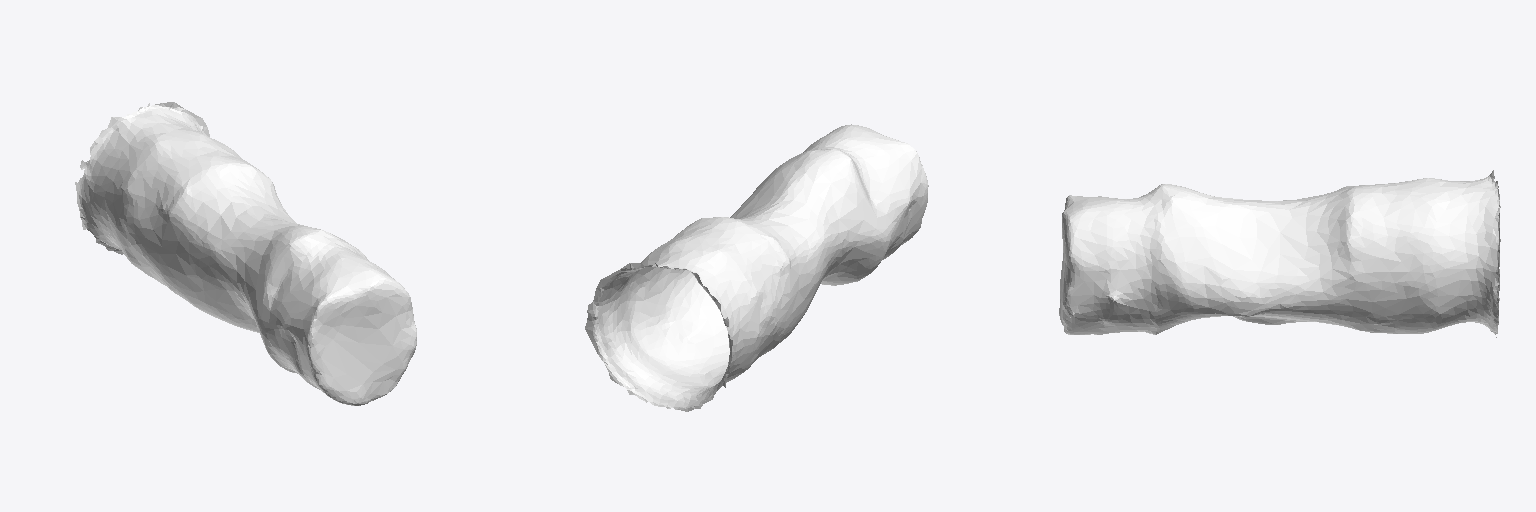
Rendered from beizi.obj.
3 renders of one model, left to right at view 1: azimuth 30°, elevation 25°; view 2: azimuth 150°, elevation 25°; view 3: azimuth 270°, elevation 25°, orthographic.
Size of the model in its own units: 2.84 by 2.7 by 7.39.